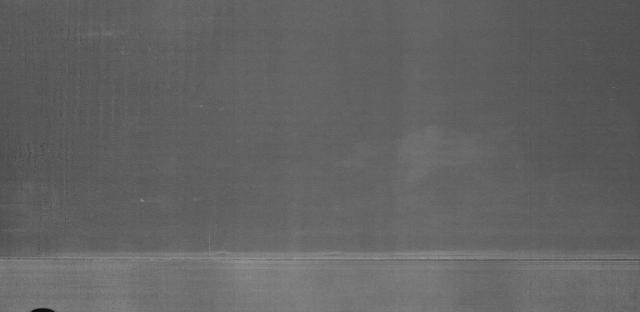punching_hole: (26, 303, 62, 312)
welding_line: (1, 249, 640, 270)
